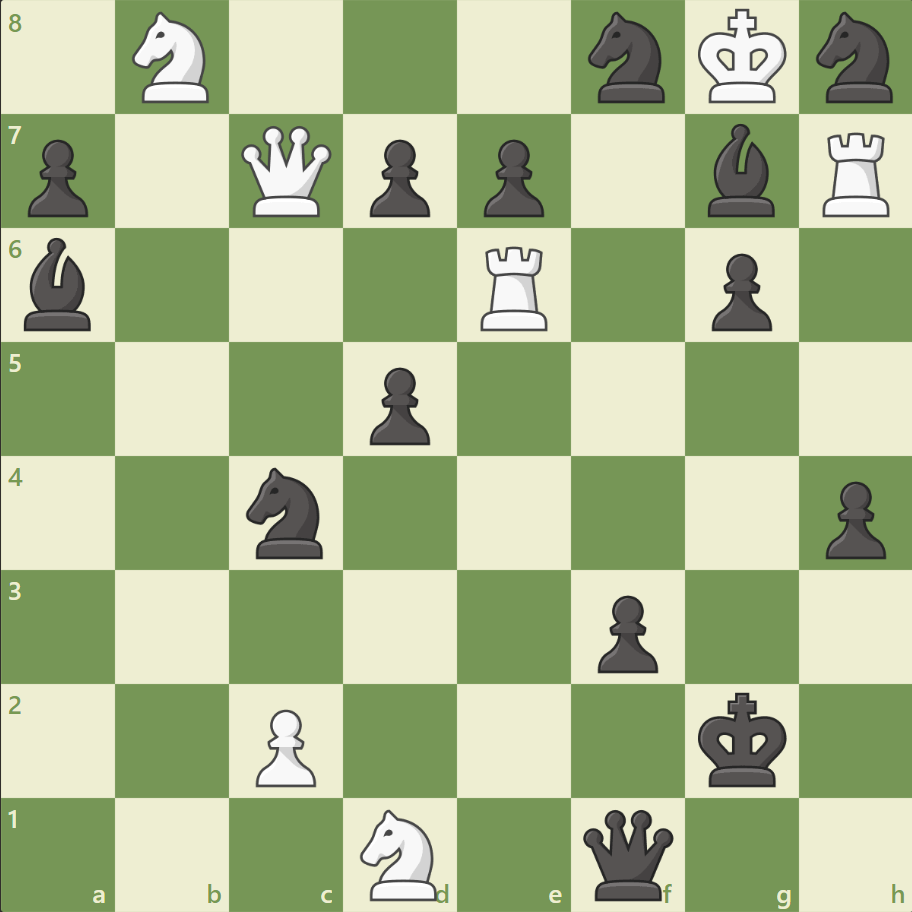K: (692, 4, 792, 112)
N: (124, 7, 222, 110), (351, 802, 449, 904)
P: (247, 700, 322, 791)
Q: (237, 122, 336, 222)
R: (814, 125, 897, 222), (473, 239, 556, 336)
b: (17, 233, 101, 336), (698, 120, 782, 222)
k: (692, 685, 792, 793)
n: (579, 7, 676, 110), (806, 7, 903, 110), (238, 461, 335, 564)
p: (20, 132, 95, 223), (474, 132, 549, 223), (701, 246, 776, 337), (361, 132, 435, 223), (361, 359, 435, 450), (815, 473, 889, 564), (588, 586, 662, 677)
q: (578, 804, 677, 903)
